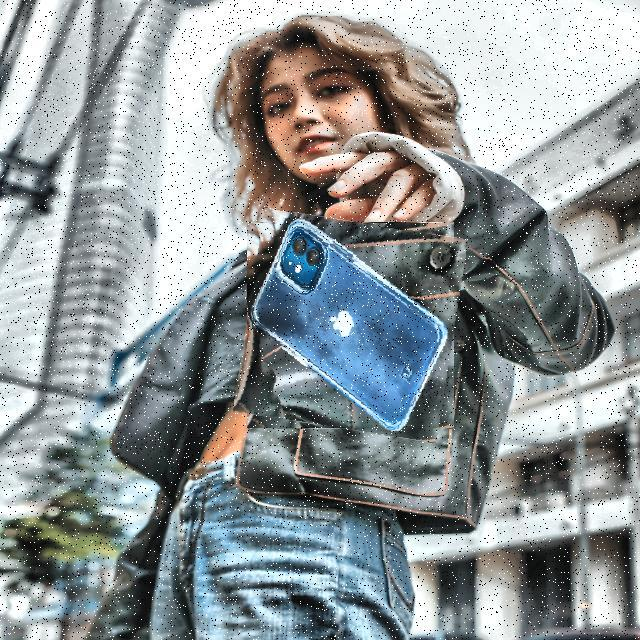Phone: (240, 215, 462, 436)
